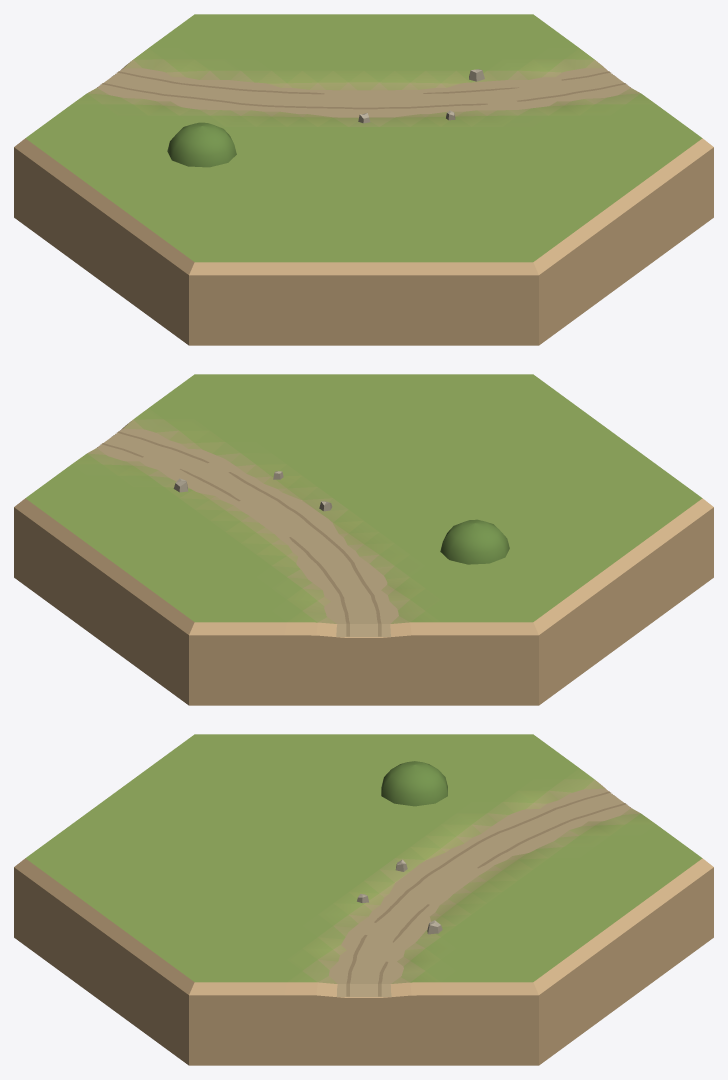
File: road_bend_2.fbx
3 views of the same model, one above another, from view 1: azimuth 30°, elevation 25°; view 2: azimuth 150°, elevation 25°; view 3: azimuth 270°, elevation 25° (orthographic).
Visible parts, largest first — view 1: road_bend_2; view 2: road_bend_2; view 3: road_bend_2.
Part boxes in pixels (x1,y1,x2,y2): road_bend_2: [14, 14, 713, 345]; road_bend_2: [14, 374, 713, 705]; road_bend_2: [14, 734, 713, 1065].
Bounding box in the file's own units: 1.73 × 0.335 × 2.
